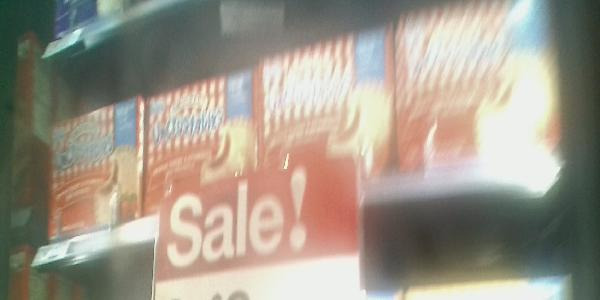icecream: (397, 1, 561, 198), (257, 21, 396, 236), (143, 66, 257, 219), (45, 94, 145, 245)
